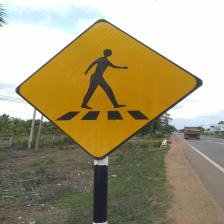crossing: (174, 132, 224, 174)
yellowboard: (14, 18, 204, 161)
